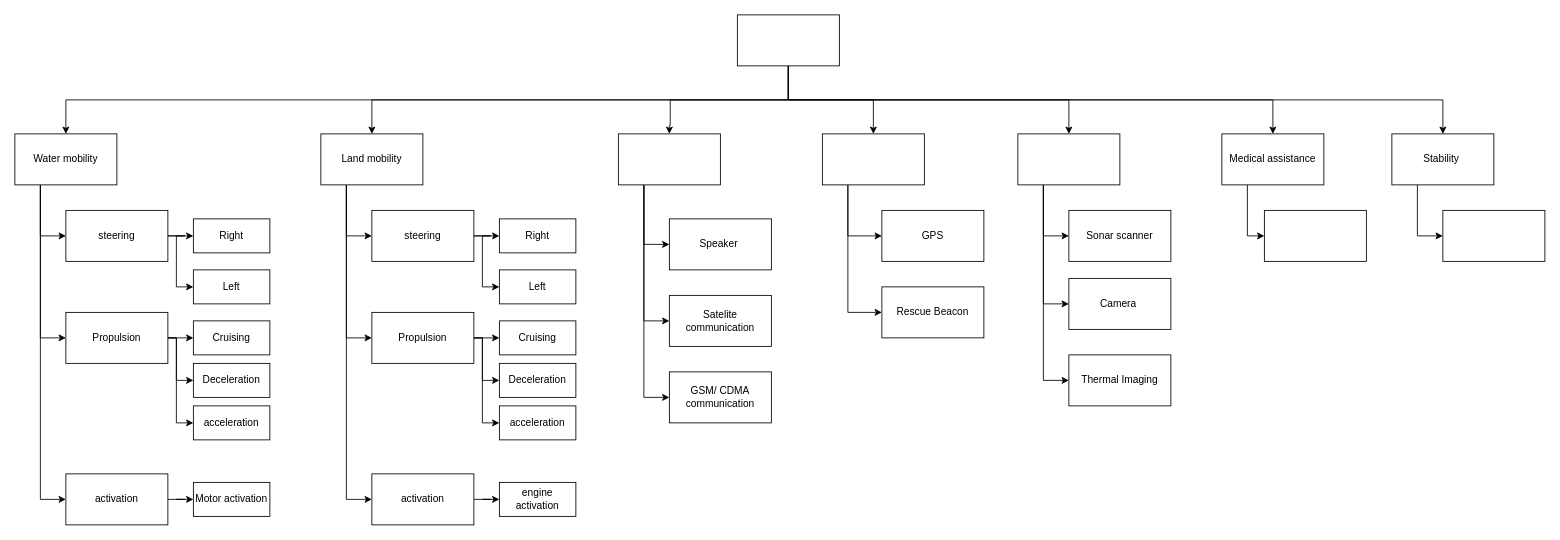
The diagram is 1560 pixels wide and 540 high, and some of its shapes have lost their labels. Each missing label, with the centre of its shape:
"Communication" goes at pixel 669 159.
"Defibrillator" goes at pixel 1315 235.
"Gyroscope" goes at pixel 1493 235.
"Navigation & tracking" goes at pixel 873 159.
"Rescue bot" goes at pixel 788 40.
"SIte inspection" goes at pixel 1068 159.
